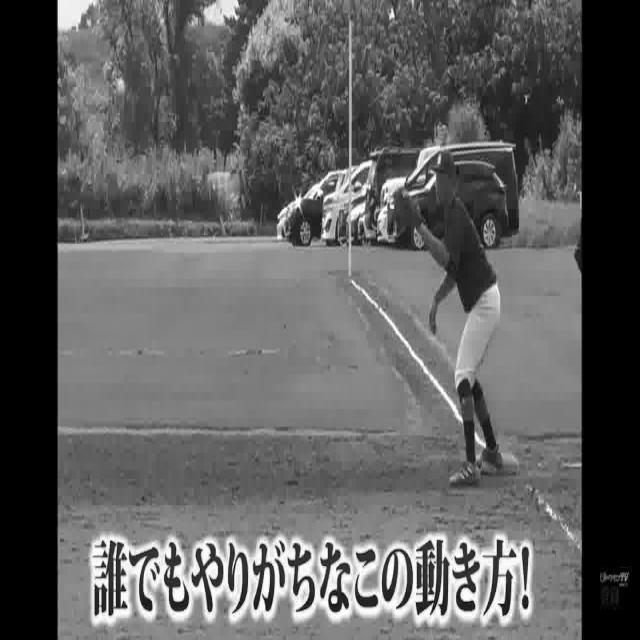base: (470, 450, 518, 476)
baseball: (114, 72, 128, 100)
baseball_glove: (391, 183, 424, 240)
shoe: (450, 462, 480, 490), (476, 445, 504, 468)
